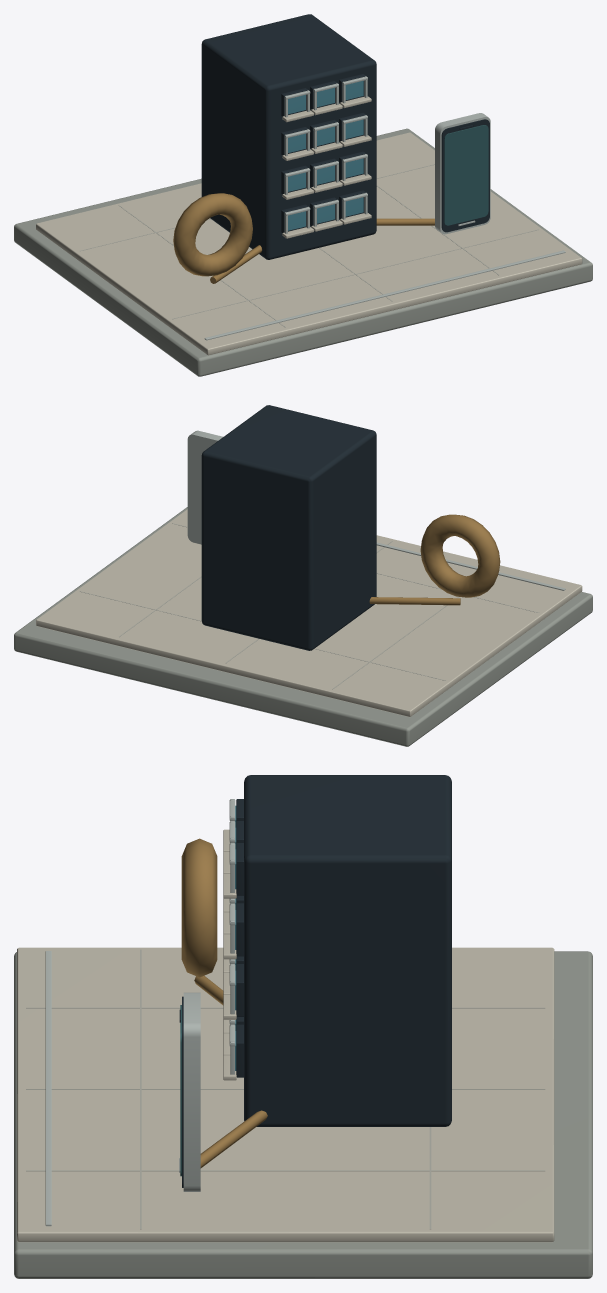
File: idea-b7ca5208.glb
The picture shows the model from 3 angles, top to bottom: view 1: azimuth 30°, elevation 25°; view 2: azimuth 150°, elevation 25°; view 3: azimuth 270°, elevation 25°; orthographic projection. The views are drawn at different scales.
Parts seen in each view (by area): view 1: Karmic Edge + Core; view 2: Karmic Edge + Core; view 3: Karmic Edge + Core.
Boxes of the visible parts, x1,y1,x2,y2 form: Karmic Edge + Core: (14,14,592,376); Karmic Edge + Core: (14,405,592,746); Karmic Edge + Core: (14,775,592,1278).
Size of the model in its own units: 4.8 by 2.34 by 3.9.
